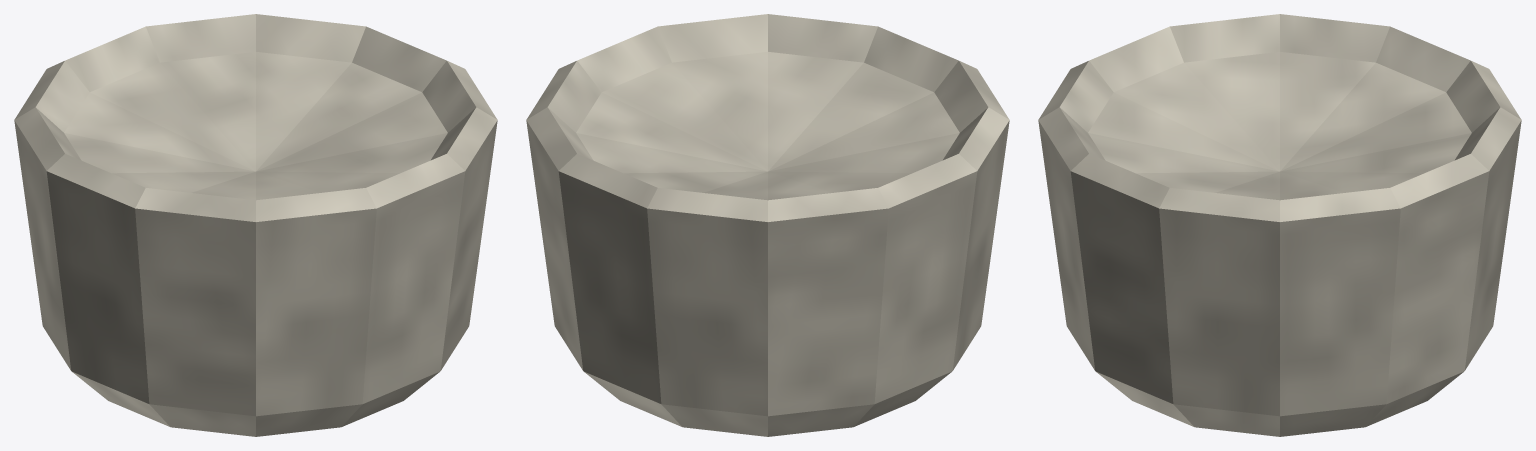
Rendered from teacup.fbx.
The picture shows the model from 3 angles, left to right: view 1: azimuth 30°, elevation 25°; view 2: azimuth 150°, elevation 25°; view 3: azimuth 270°, elevation 25°; orthographic projection.
Visible parts, largest first — view 1: teacup; view 2: teacup; view 3: teacup.
Part boxes in pixels (x1,y1,x2,y2): teacup: [14, 14, 497, 436]; teacup: [526, 14, 1009, 436]; teacup: [1038, 14, 1521, 436].
Size of the model in its own units: 6.8 by 4 by 6.8.
